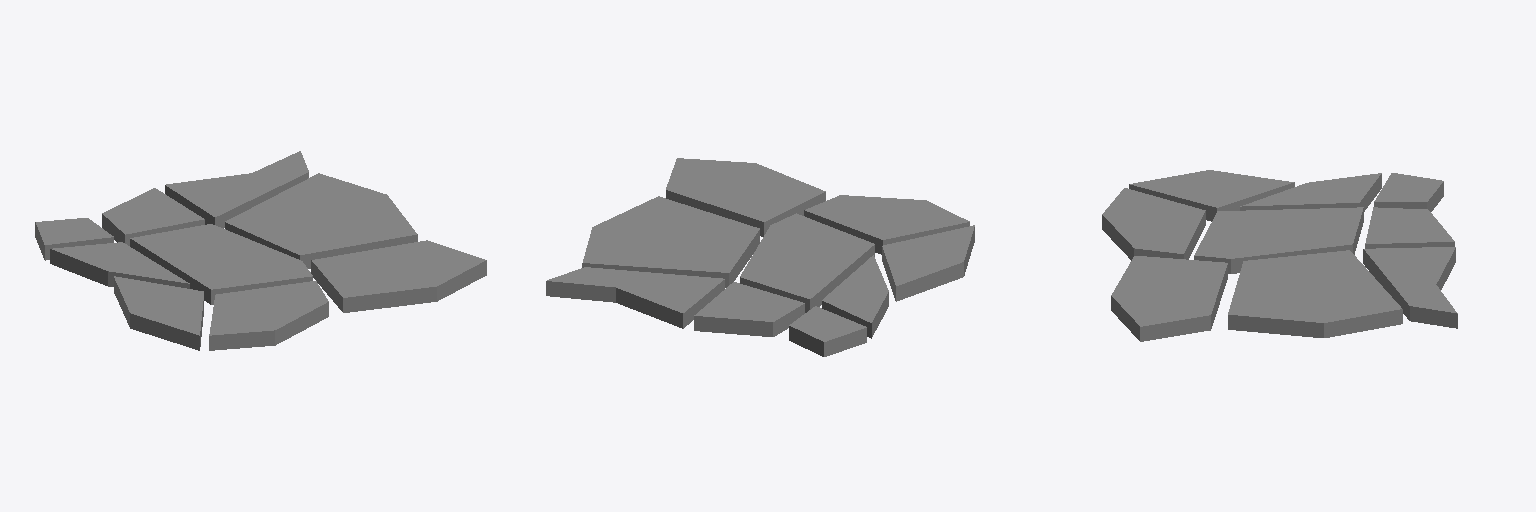
File: rwk.obj
3 views of the same model, side by side, from view 1: azimuth 30°, elevation 25°; view 2: azimuth 150°, elevation 25°; view 3: azimuth 270°, elevation 25° (orthographic).
Parts seen in each view (by area): view 1: Layer0_001; view 2: Layer0_001; view 3: Layer0_001.
Boxes of the visible parts, <box> form: Layer0_001: <box>35,151,486,350</box>; Layer0_001: <box>546,158,974,356</box>; Layer0_001: <box>1102,170,1457,341</box>.
Size of the model in its own units: 33.14 by 1.5 by 31.71.